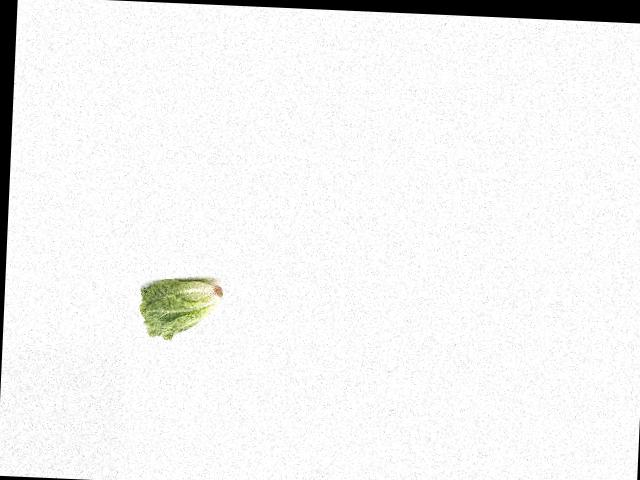lettuce: (138, 275, 227, 343)
